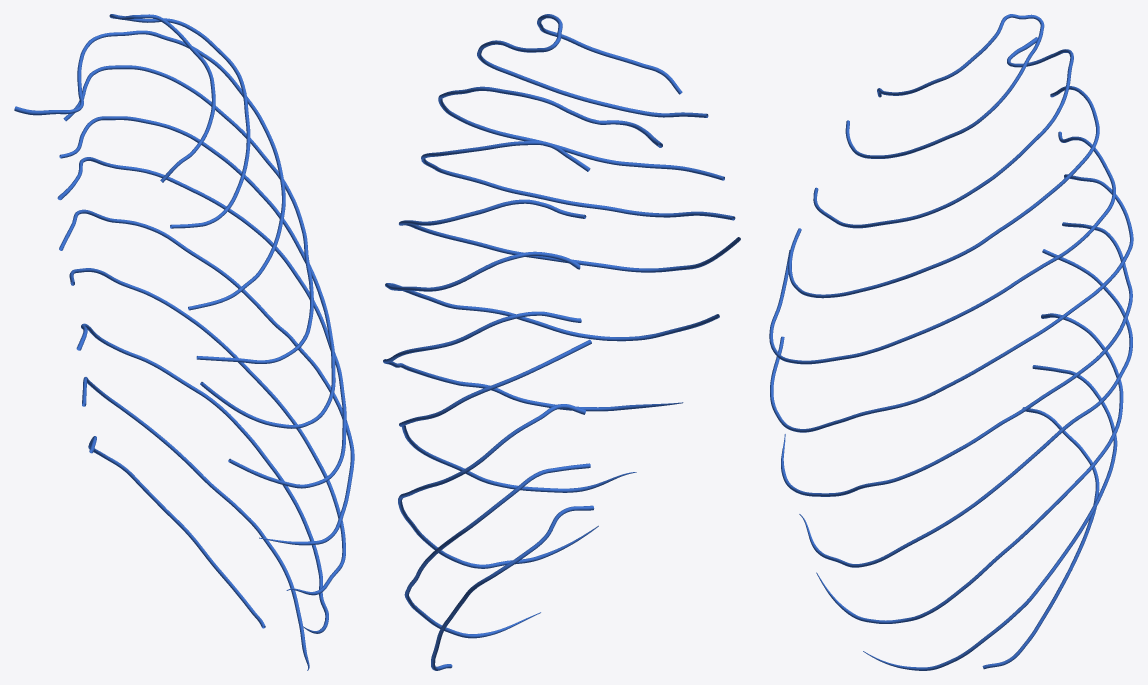
File: circulatorio-left-superior-intercostal-vein.glb
3 views of the same model, side by side, from view 1: azimuth 30°, elevation 25°; view 2: azimuth 150°, elevation 25°; view 3: azimuth 270°, elevation 25° (orthographic). The views are drawn at different scales.
Visible parts, largest first — view 1: Left superior intercostal vein; view 2: Left superior intercostal vein; view 3: Left superior intercostal vein.
Part boxes in pixels (x1,y1,x2,y2): Left superior intercostal vein: [14, 14, 354, 670]; Left superior intercostal vein: [383, 14, 740, 670]; Left superior intercostal vein: [769, 14, 1133, 670].
Bounding box in the file's own units: 0.1598 × 0.3582 × 0.1963.
